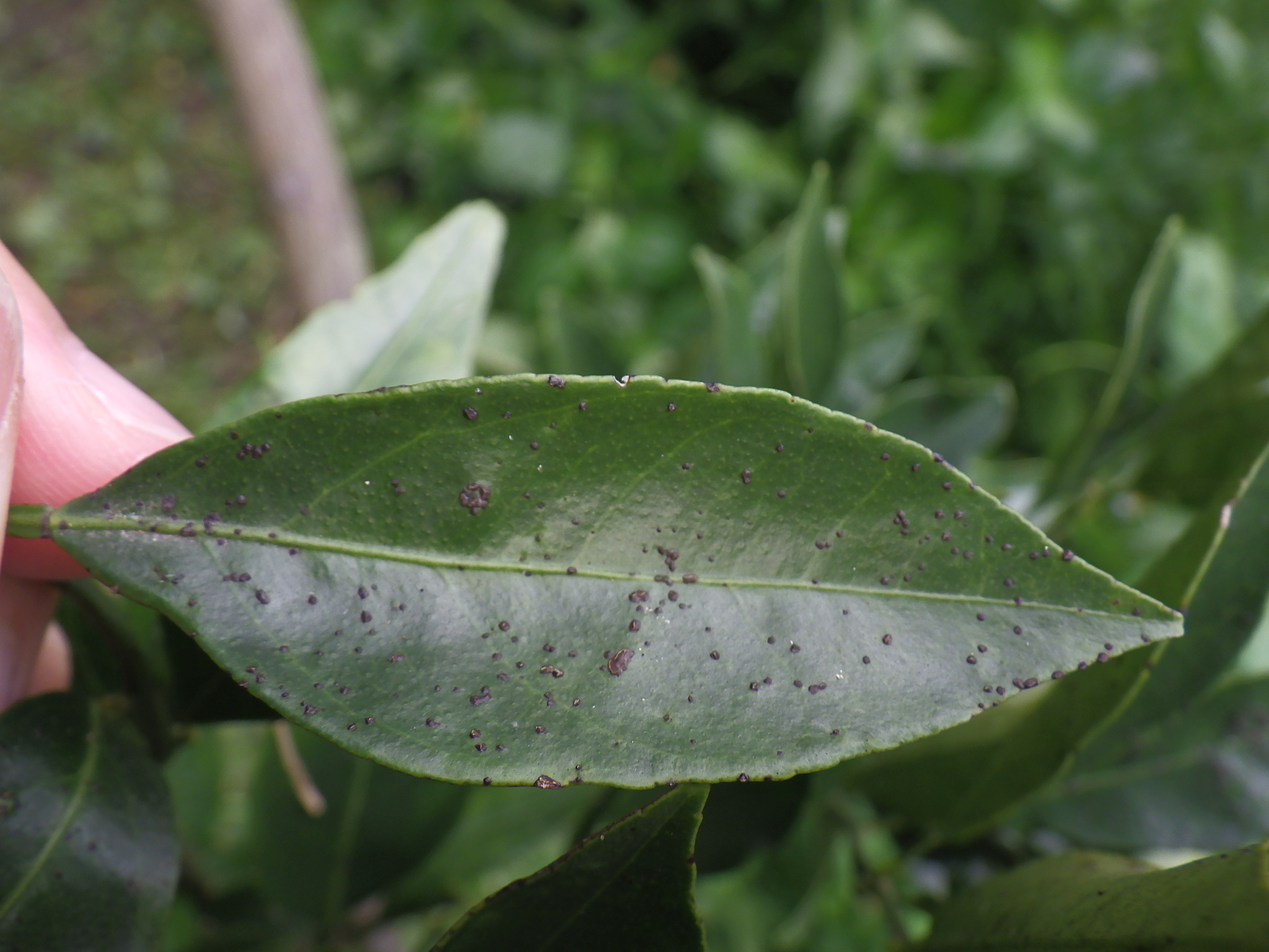Black_Spot: (11, 373, 1183, 787)
